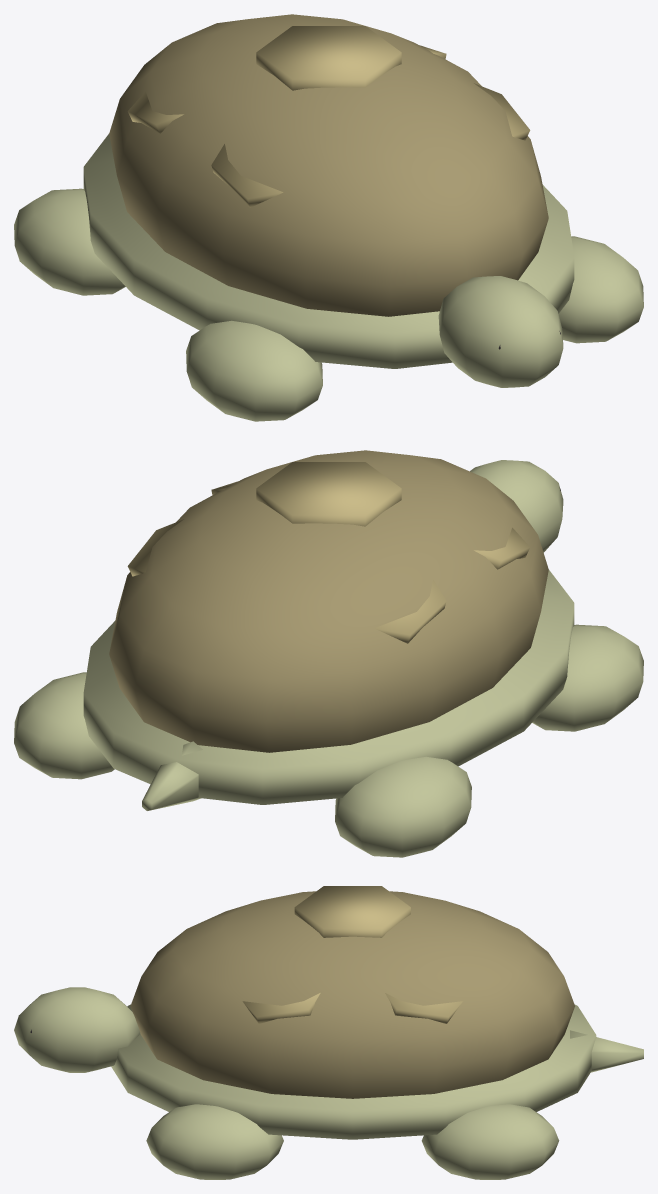
Rendered from tortuga.glb.
3 views of the same model, one above another, from view 1: azimuth 30°, elevation 25°; view 2: azimuth 150°, elevation 25°; view 3: azimuth 270°, elevation 25° (orthographic). The views are drawn at different scales.
Parts seen in each view (by area): view 1: tortuga; view 2: tortuga; view 3: tortuga.
Part boxes in pixels (x1,y1,x2,y2): tortuga: [14, 14, 643, 421]; tortuga: [14, 450, 643, 857]; tortuga: [14, 886, 643, 1179].
Bounding box in the file's own units: 0.3751 × 0.213 × 0.595.
